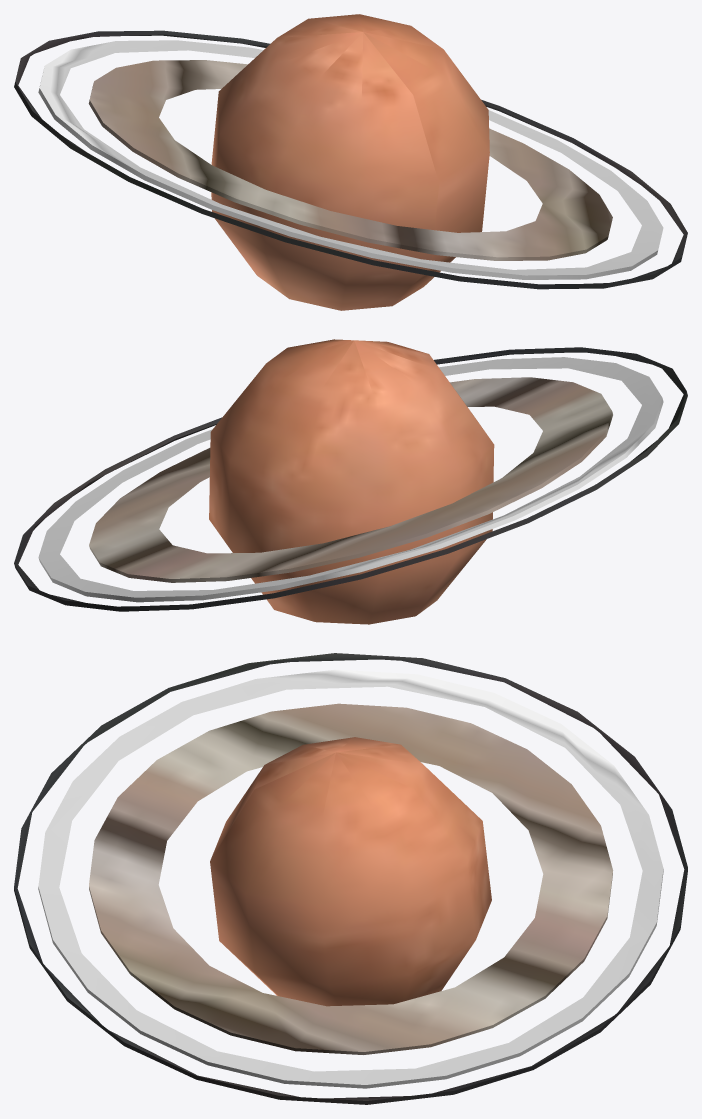
The model's file is colony-planet.glb.
3 views of the same model, one above another, from view 1: azimuth 30°, elevation 25°; view 2: azimuth 150°, elevation 25°; view 3: azimuth 270°, elevation 25° (orthographic). The views are drawn at different scales.
Visible parts, largest first — view 1: Colony_Planet_Art; view 2: Colony_Planet_Art; view 3: Colony_Planet_Art.
Boxes of the visible parts, x1,y1,x2,y2 form: Colony_Planet_Art: (14,14,687,310); Colony_Planet_Art: (14,339,687,624); Colony_Planet_Art: (14,653,687,1104).
Size of the model in its own units: 4.45 by 1.99 by 4.64.
1 material, 1 textured.
